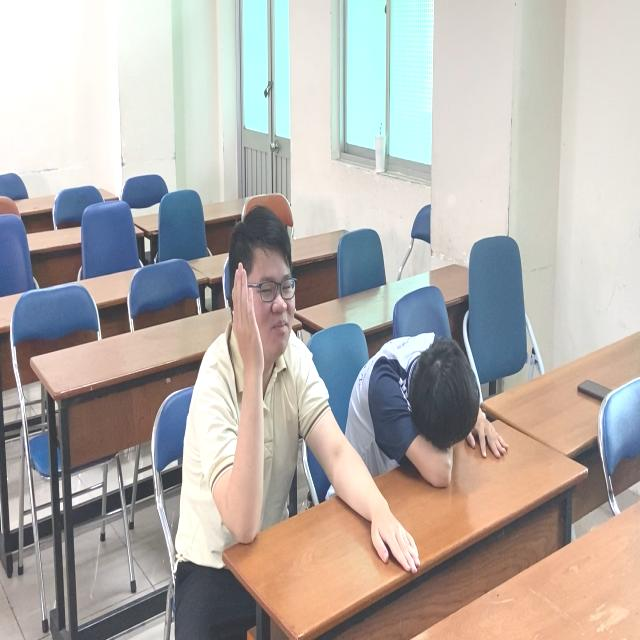raise_hand: (192, 202, 315, 558)
sleep: (342, 322, 512, 500)
